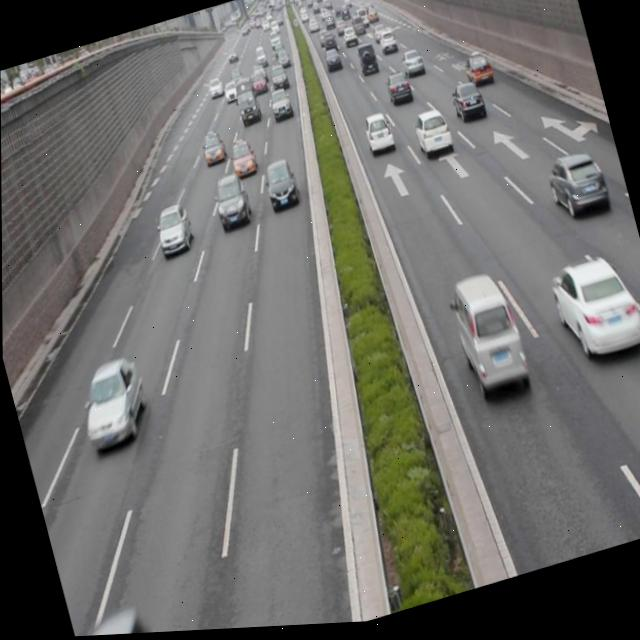car: (544, 253, 640, 374), (72, 354, 153, 453), (541, 152, 609, 230), (70, 603, 160, 637), (149, 201, 197, 261), (208, 171, 253, 233), (258, 158, 302, 219), (409, 109, 453, 163), (446, 82, 486, 130), (359, 113, 395, 160), (226, 139, 259, 183), (197, 130, 229, 172), (459, 53, 492, 92), (382, 71, 413, 112), (265, 87, 293, 126), (397, 49, 425, 83)
truck: (443, 272, 528, 401), (230, 76, 262, 129)
